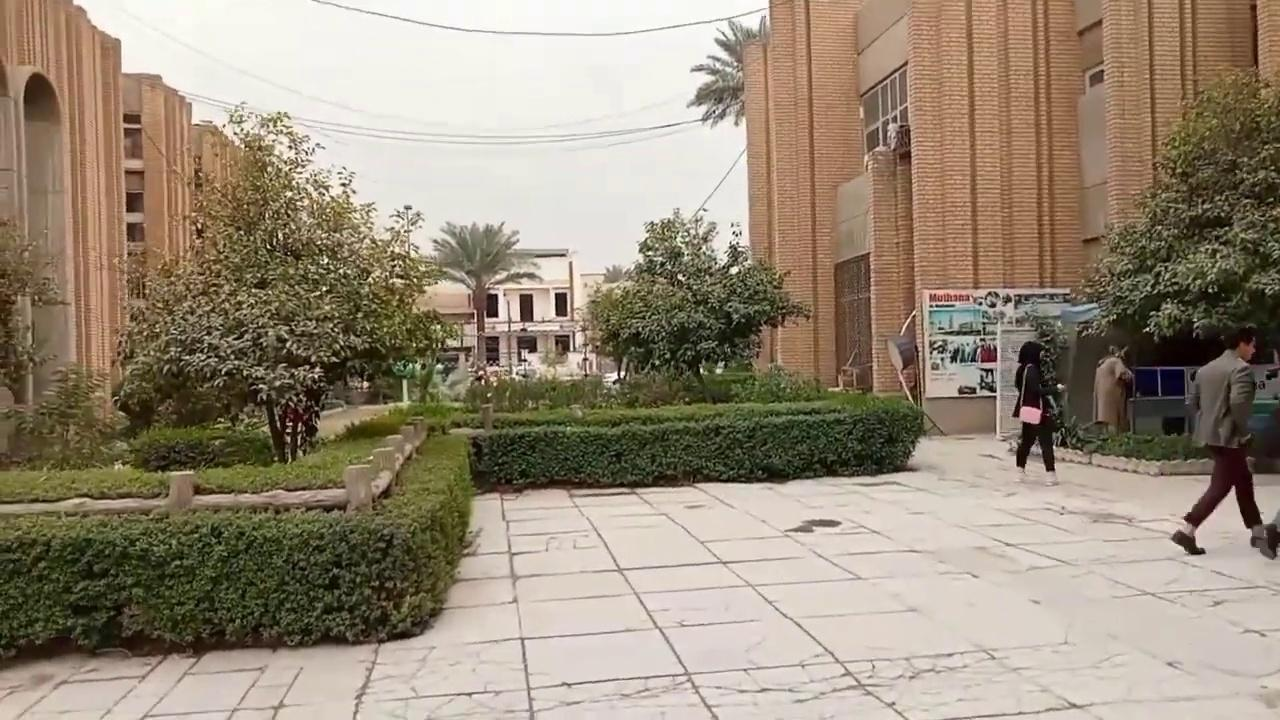person: (1169, 325, 1275, 557), (1011, 340, 1061, 486), (1092, 343, 1134, 435)
tree: (107, 100, 461, 464), (1070, 62, 1279, 363), (577, 205, 812, 397), (464, 395, 924, 488), (429, 219, 541, 378), (0, 213, 70, 404), (8, 360, 129, 469), (686, 13, 768, 129), (1025, 308, 1070, 437), (383, 203, 424, 260)
